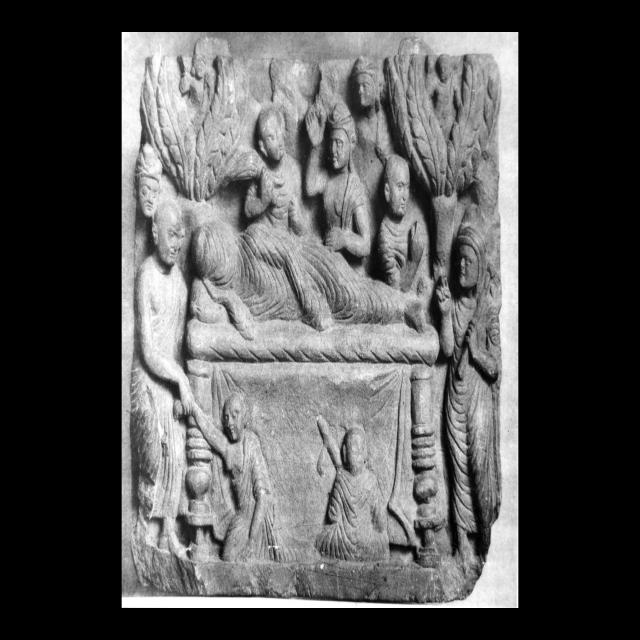buddha-sleeping: (187, 211, 442, 574)
